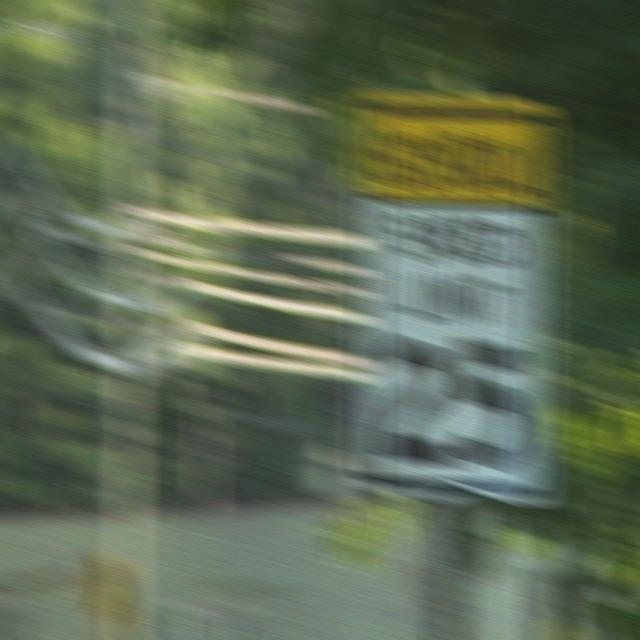speedLimit25: (360, 192, 557, 509)
